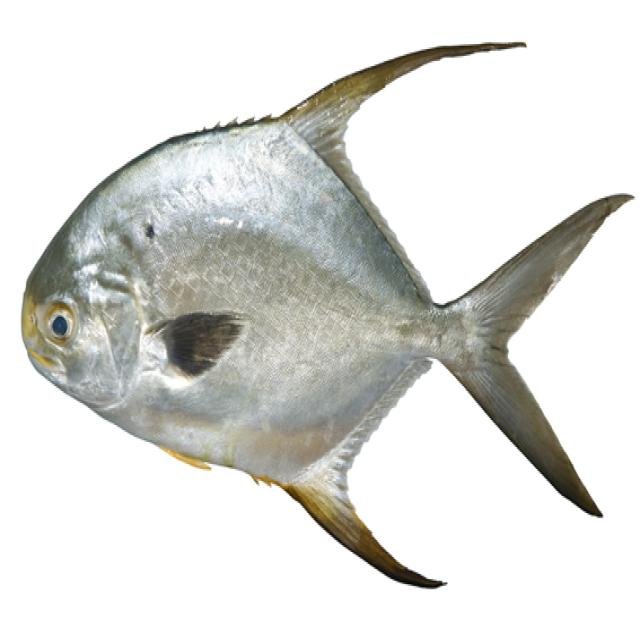ikan: (16, 21, 634, 608)
